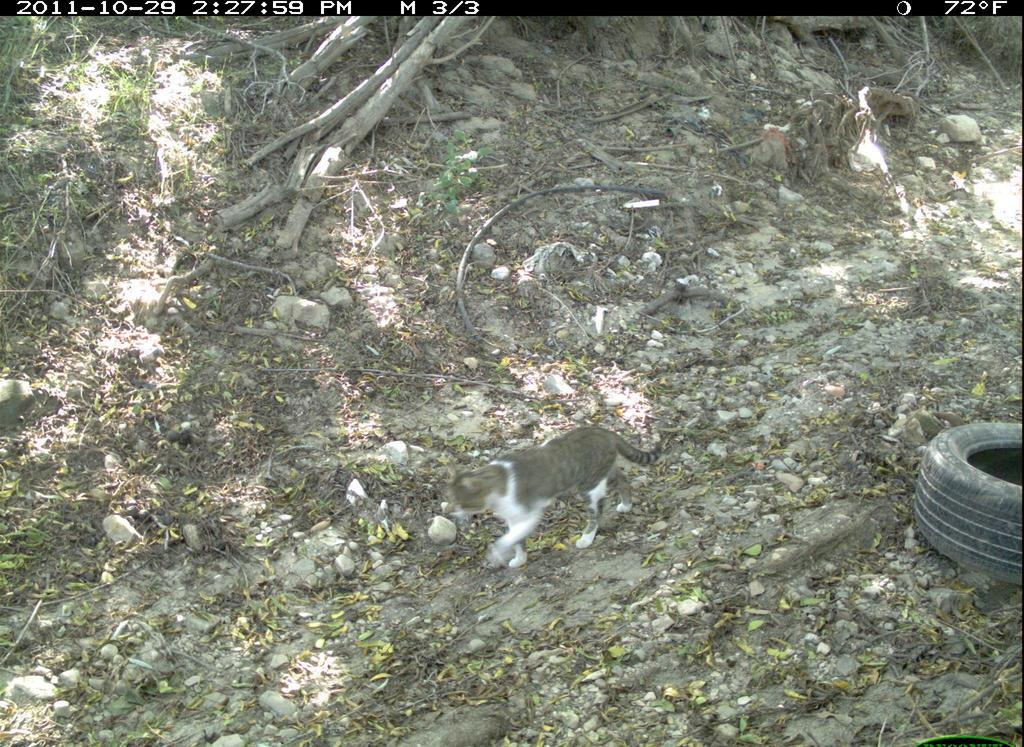cat: (409, 401, 705, 605)
